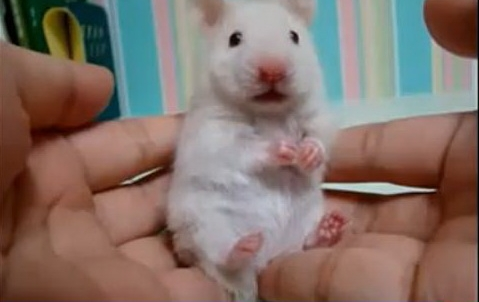mouse: (177, 2, 359, 275)
